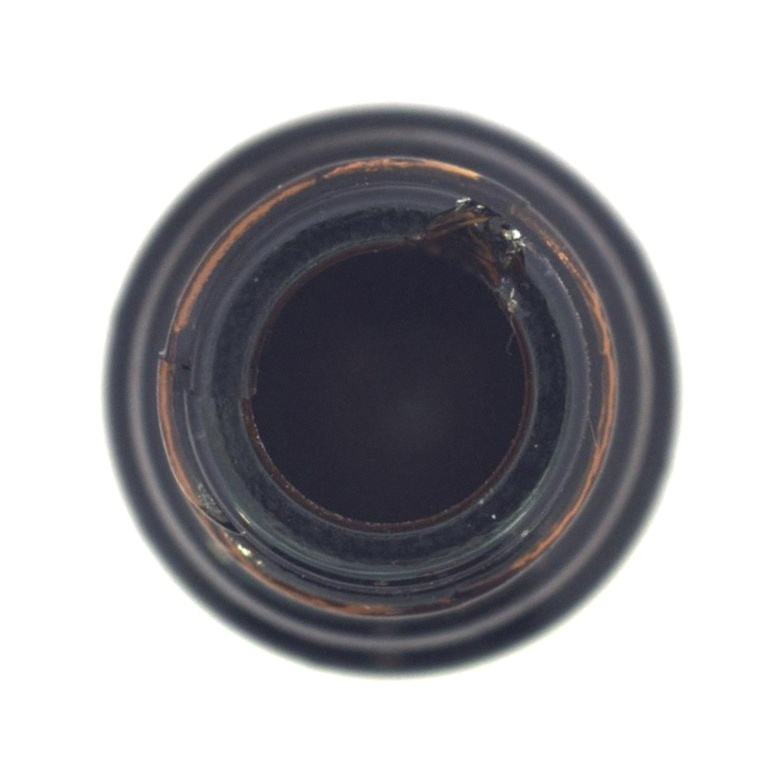bad-broken_small: (36, 35, 750, 746)
